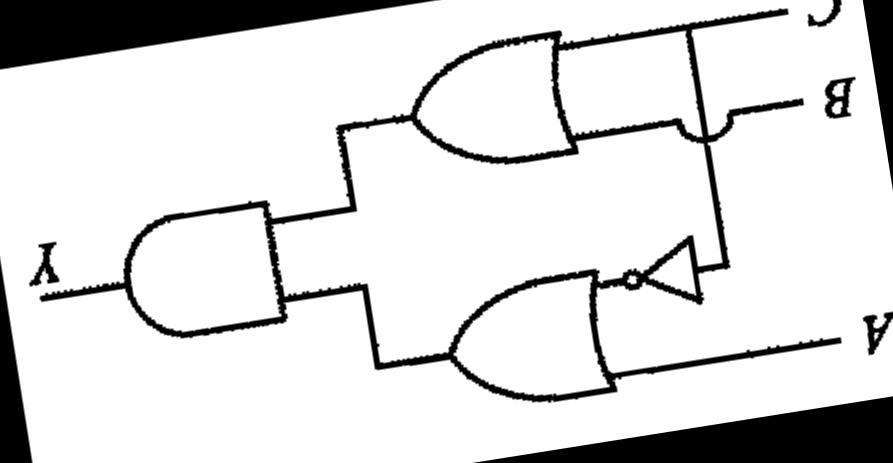and: (102, 187, 302, 357)
not: (606, 227, 714, 325)
or: (386, 14, 591, 190), (420, 256, 626, 427)
